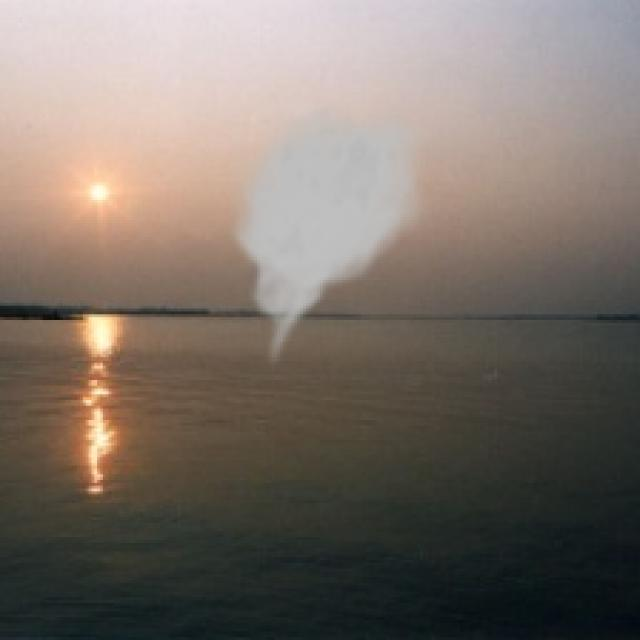smoke: (226, 100, 434, 371)
